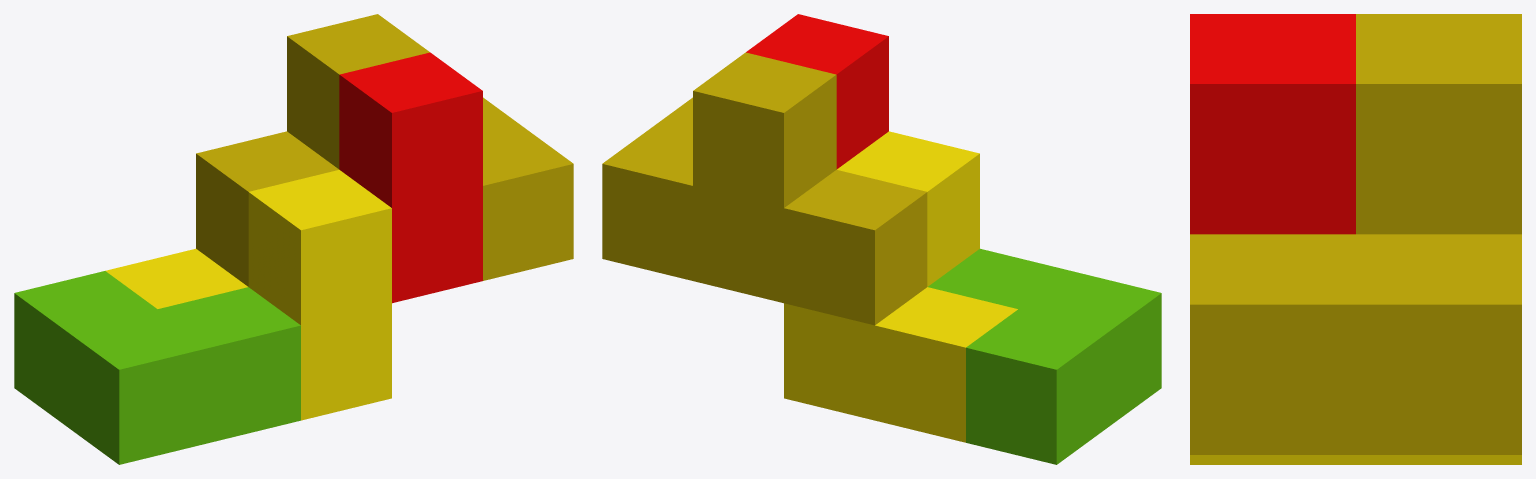
The picture shows the model from 3 angles, left to right: view 1: azimuth 30°, elevation 25°; view 2: azimuth 150°, elevation 25°; view 3: azimuth 270°, elevation 25°; orthographic projection. The views are drawn at different scales.
Parts seen in each view (by area): view 1: mergedBlocks(Clone); view 2: mergedBlocks(Clone); view 3: mergedBlocks(Clone).
Part boxes in pixels (bbox=[...]): mergedBlocks(Clone): bbox=[14, 14, 573, 464]; mergedBlocks(Clone): bbox=[602, 14, 1161, 464]; mergedBlocks(Clone): bbox=[1190, 14, 1521, 464].
Size of the model in its own units: 5 by 3 by 2.
Materials: 4 (4 with a texture image).
